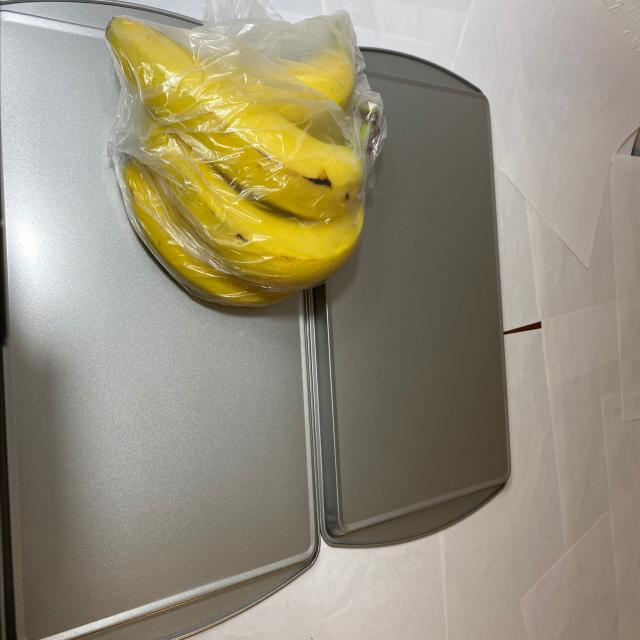banana: (102, 14, 392, 319)
